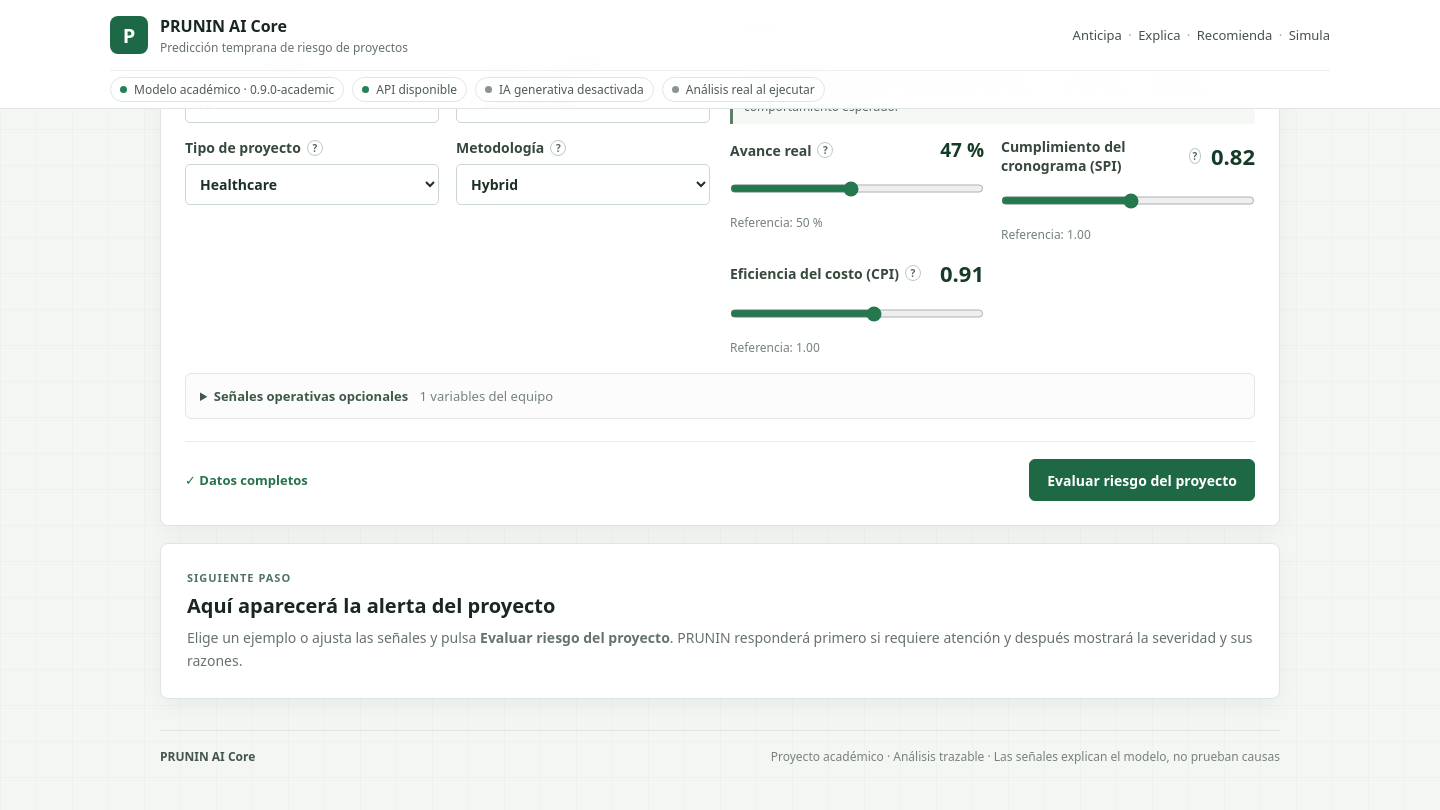
Test: Playground ejecutivo › distingue JSON inválido de timeout y grounding
(page scrolled)
Click the button "Evaluar riesgo del proyecto". click: click(1142, 480)
box: [1029,459,1255,501]
(page scrolled)
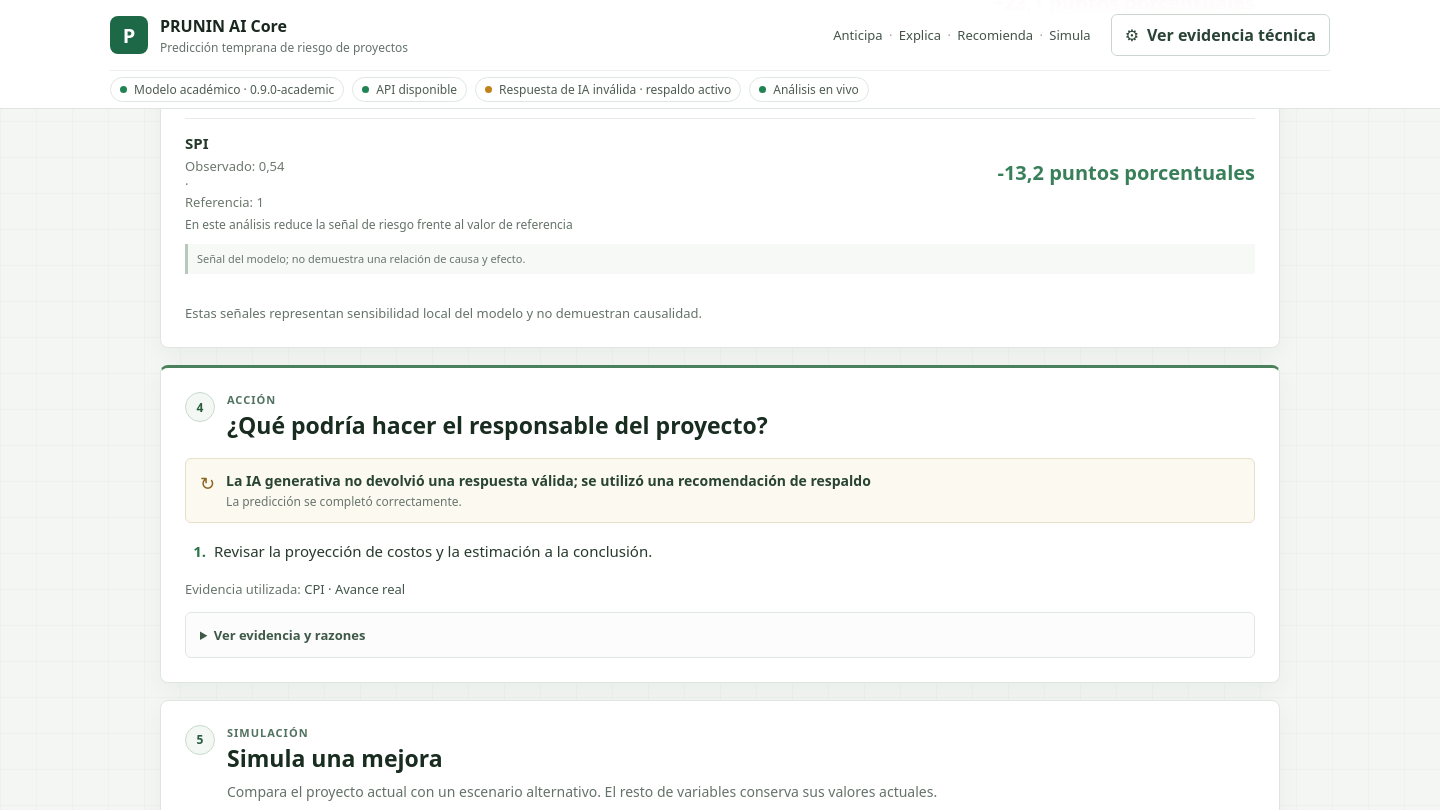
Expected: the text "La IA generativa no devolvió una respuesta válida" is shown, [226,471,871,490]
